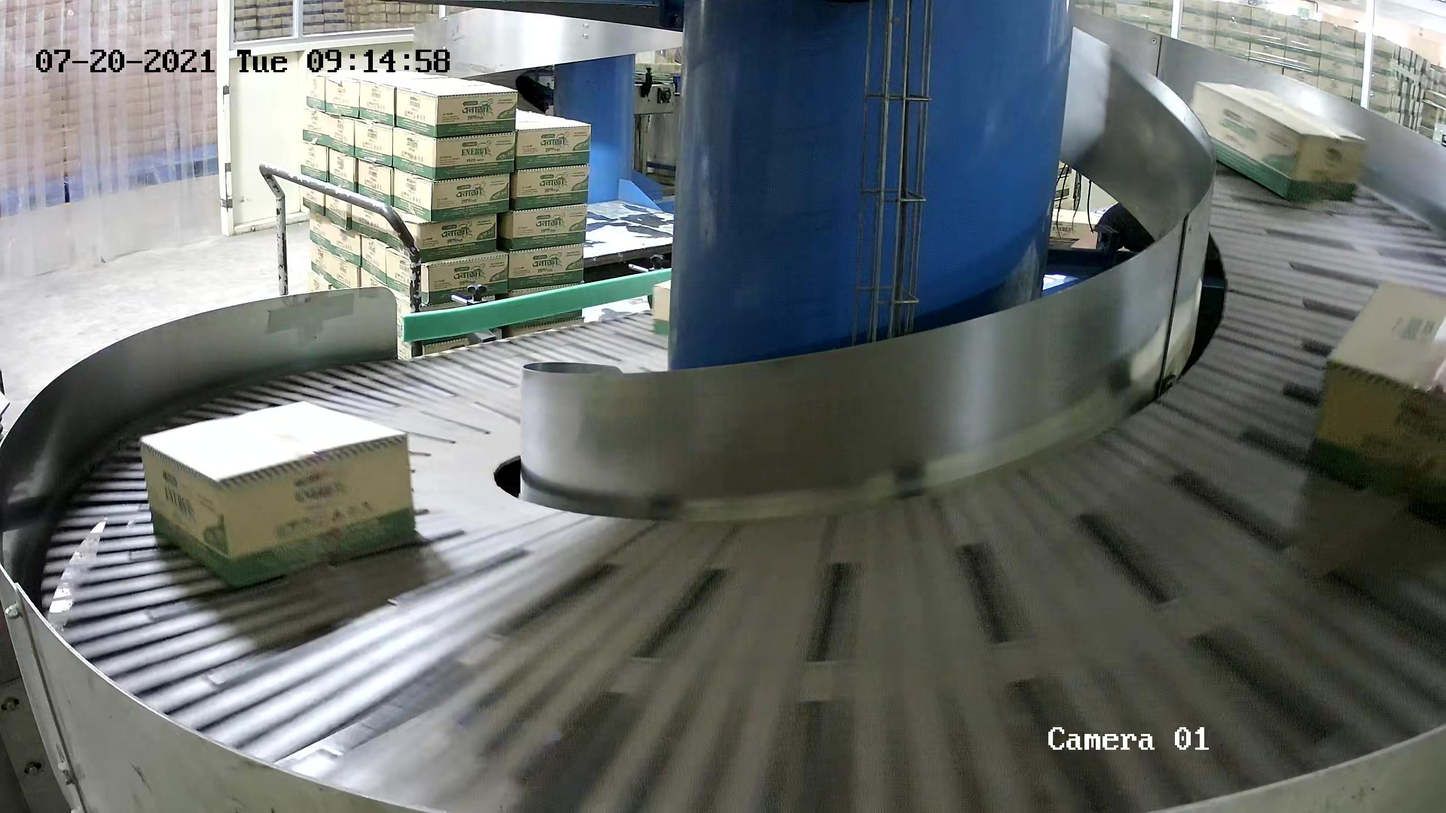Box: (138, 399, 419, 588), (1305, 280, 1446, 518), (1183, 80, 1370, 206)
